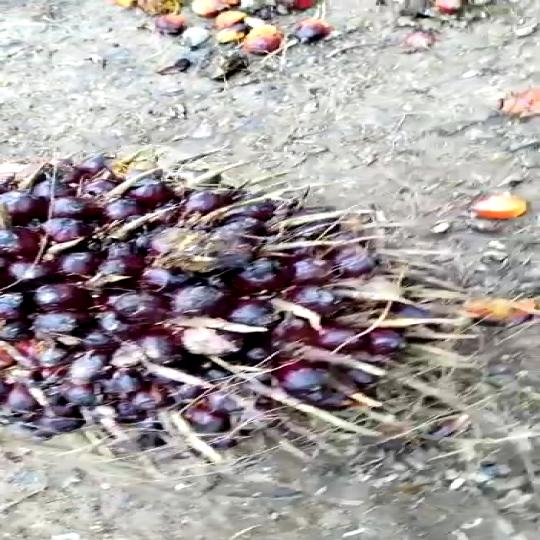mentah: (7, 154, 463, 467)
